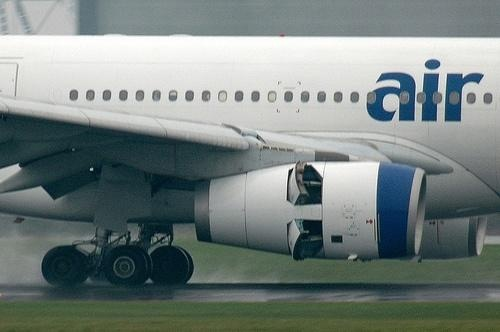aeroplane: (2, 31, 500, 289)
